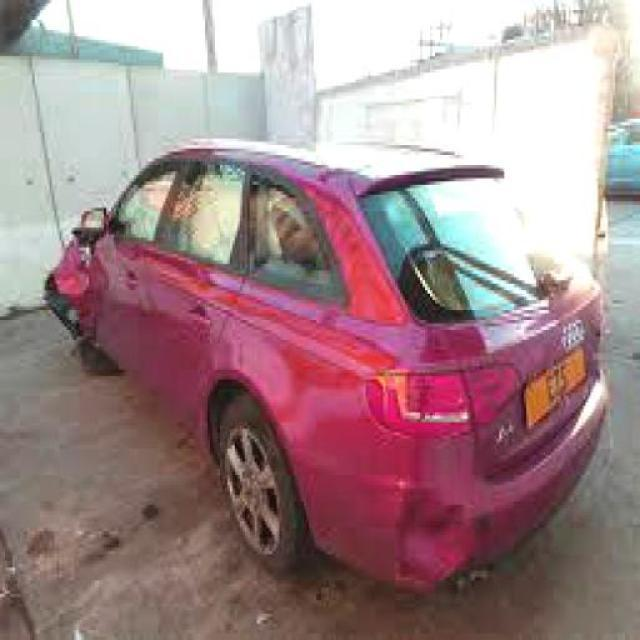car damage: (395, 471, 489, 586), (37, 236, 102, 347)
